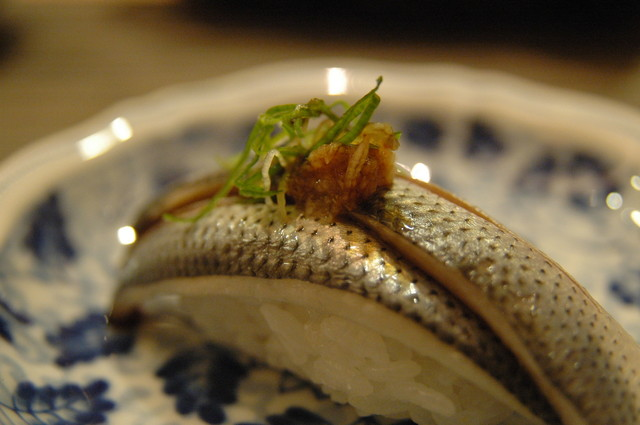spotted-shad: (113, 83, 640, 415)
